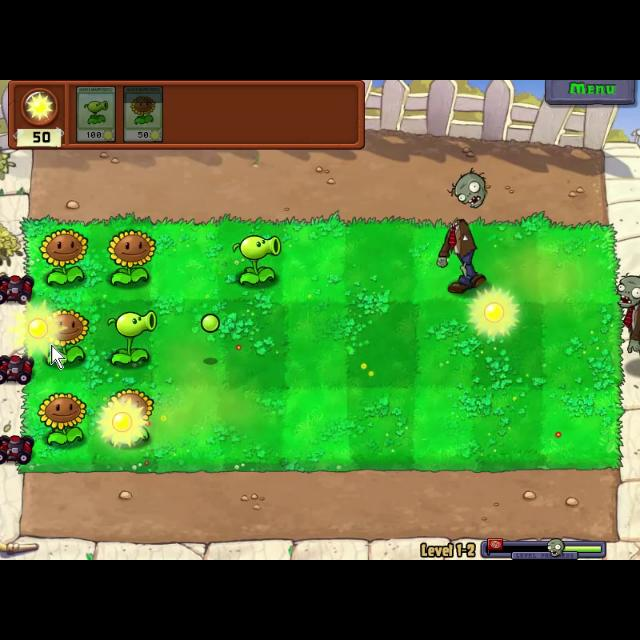Garden: (15, 212, 627, 476)
Menu Button: (543, 80, 637, 106)
Mower: (0, 270, 36, 308), (0, 431, 36, 467), (0, 350, 32, 386)
Peashooter: (74, 82, 118, 144)
Peashooter Seed: (228, 230, 286, 290), (104, 309, 156, 365)
Seed Panel: (5, 80, 368, 152)
Sun: (7, 297, 67, 358), (91, 394, 151, 452), (467, 286, 521, 340)
Sunflower: (121, 84, 165, 146)
Sunflower Seed: (35, 304, 91, 370), (36, 224, 92, 288), (36, 387, 90, 453), (100, 382, 154, 448), (101, 226, 157, 288)
Zombie: (436, 218, 490, 296), (614, 271, 640, 359)
